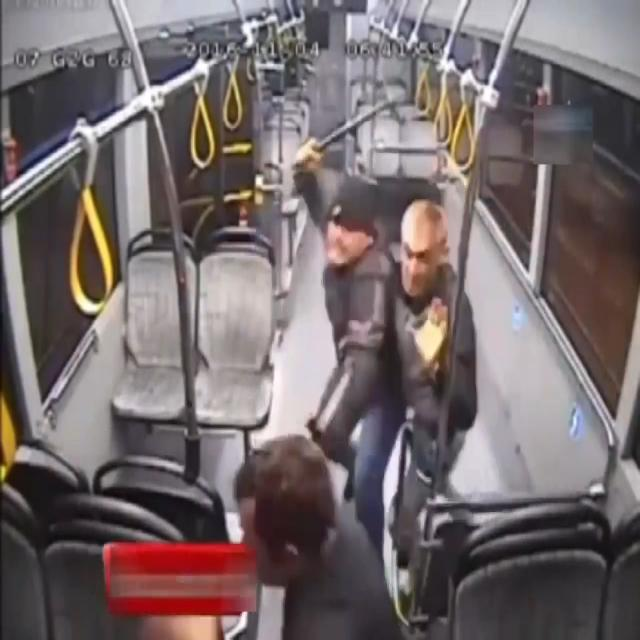fight: (238, 89, 407, 640)
